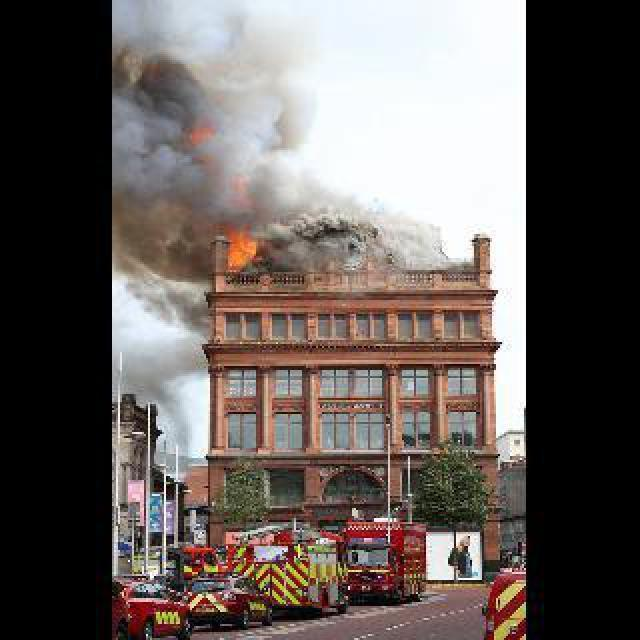Fire: (220, 222, 270, 274)
Smoke: (113, 0, 321, 229), (116, 222, 220, 438), (276, 166, 474, 276)
